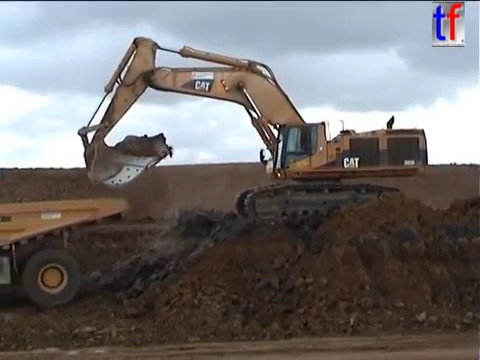excavator: (75, 34, 430, 227)
truck: (1, 195, 132, 308)
